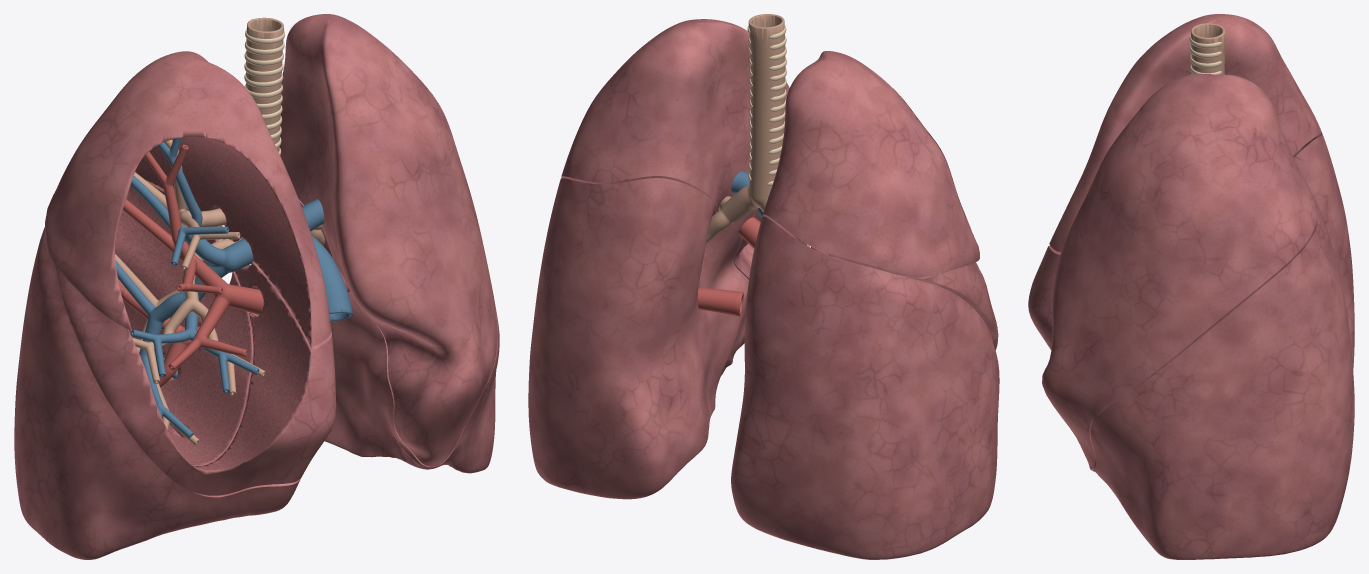
Rendered from dissection.glb.
The picture shows the model from 3 angles, left to right: view 1: azimuth 30°, elevation 25°; view 2: azimuth 150°, elevation 25°; view 3: azimuth 270°, elevation 25°; orthographic projection. The views are drawn at different scales.
Parts seen in each view (by area): view 1: LUL, RLL, RUL, RML, LLL, Pulmonary_Arteries, Airway_Tree, Pulmonary_Vein_R_Superior, Tracheal_Cartilage, Pulmonary_Vein_R_Inferior; view 2: RLL, LLL, RUL, LUL, Airway_Tree, RML, Tracheal_Cartilage, Pulmonary_Vein_L_Inferior; view 3: LUL, LLL, RUL, RLL, RML, Airway_Tree, Tracheal_Cartilage.
Boxes of the visible parts, bbox=[...] form: LUL: bbox=[279, 14, 497, 466]; RLL: bbox=[14, 182, 301, 559]; RUL: bbox=[45, 51, 331, 347]; RML: bbox=[53, 261, 336, 495]; LLL: bbox=[299, 199, 499, 473]; Pulmonary_Arteries: bbox=[115, 137, 352, 438]; Airway_Tree: bbox=[115, 17, 324, 444]; Pulmonary_Vein_R_Superior: bbox=[123, 144, 263, 369]; Tracheal_Cartilage: bbox=[244, 30, 284, 155]; Pulmonary_Vein_R_Inferior: bbox=[118, 279, 199, 437]; RLL: bbox=[731, 216, 999, 559]; LLL: bbox=[528, 178, 748, 499]; RUL: bbox=[763, 51, 979, 277]; LUL: bbox=[561, 19, 789, 358]; Airway_Tree: bbox=[706, 14, 810, 247]; RML: bbox=[826, 254, 998, 350]; Tracheal_Cartilage: bbox=[747, 25, 786, 186]; Pulmonary_Vein_L_Inferior: bbox=[698, 287, 743, 316]; LUL: bbox=[1042, 73, 1316, 469]; LLL: bbox=[1090, 195, 1354, 559]; RUL: bbox=[1049, 14, 1321, 252]; RLL: bbox=[1293, 131, 1354, 369]; RML: bbox=[1028, 245, 1061, 349]; Airway_Tree: bbox=[1191, 23, 1225, 74]; Tracheal_Cartilage: bbox=[1189, 35, 1222, 74].
Bounding box in the file's own units: 0.254 × 0.2673 × 0.1804.
Materials: 10 (6 with a texture image).
